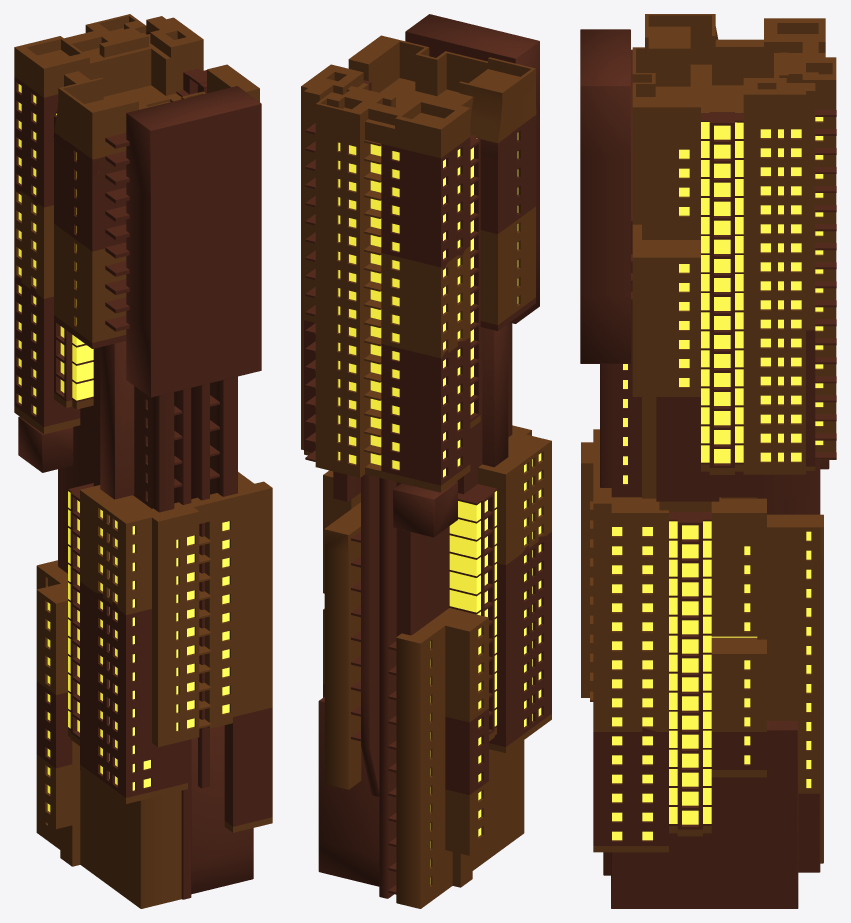
The model's file is Advertising-Hell-Building-V4.fbx.
3 views of the same model, side by side, from view 1: azimuth 30°, elevation 25°; view 2: azimuth 150°, elevation 25°; view 3: azimuth 270°, elevation 25° (orthographic). The views are drawn at different scales.
Parts seen in each view (by area): view 1: Advertising-Hell-Building-V4_LOD0; view 2: Advertising-Hell-Building-V4_LOD0; view 3: Advertising-Hell-Building-V4_LOD0.
Part boxes in pixels (x1=…): Advertising-Hell-Building-V4_LOD0: x1=14, y1=14, x2=272, y2=908; Advertising-Hell-Building-V4_LOD0: x1=301, y1=14, x2=551, y2=908; Advertising-Hell-Building-V4_LOD0: x1=580, y1=14, x2=836, y2=908.
Size of what is drawn, in the model's own units: 1796 by 8374 by 2370.
